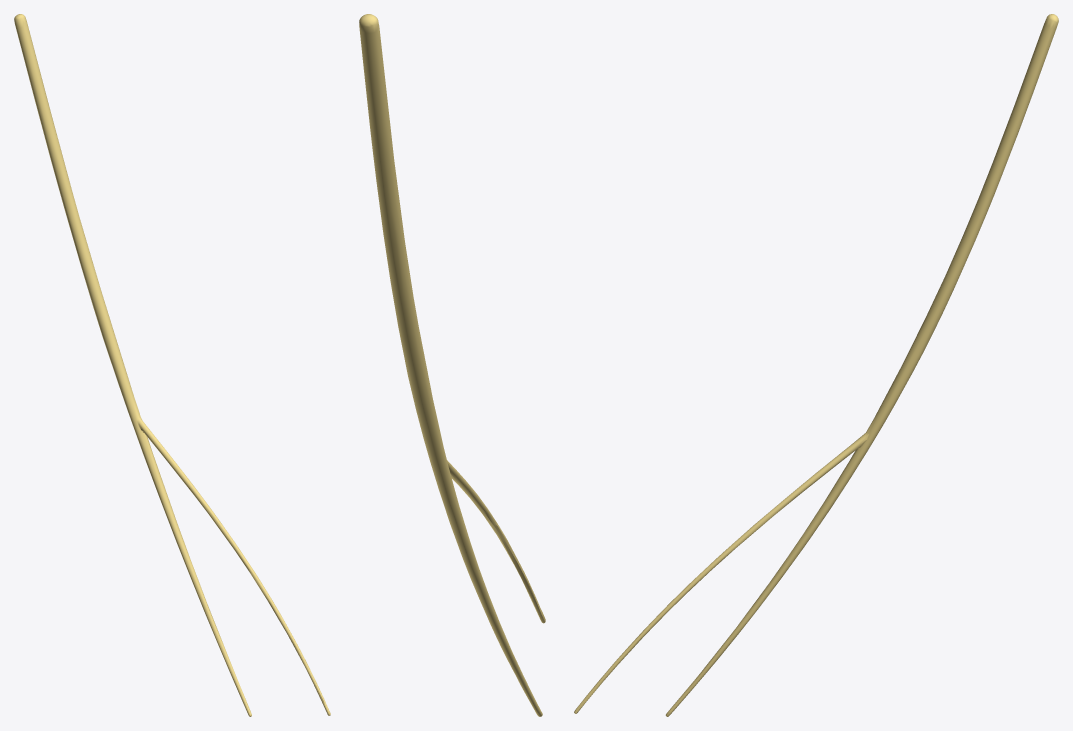
The model's file is fma52939_fj3991.glb.
3 views of the same model, side by side, from view 1: azimuth 30°, elevation 25°; view 2: azimuth 150°, elevation 25°; view 3: azimuth 270°, elevation 25° (orthographic). The views are drawn at different scales.
Visible parts, largest first — view 1: FMA52939_FJ3991; view 2: FMA52939_FJ3991; view 3: FMA52939_FJ3991.
Part boxes in pixels (x1,y1,x2,y2): FMA52939_FJ3991: [14, 14, 330, 716]; FMA52939_FJ3991: [359, 14, 545, 716]; FMA52939_FJ3991: [574, 14, 1058, 716].
Size of the model in its own units: 0.00729 by 0.0392 by 0.0257.
